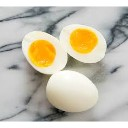begg: (49, 73, 98, 111), (24, 33, 66, 70)
